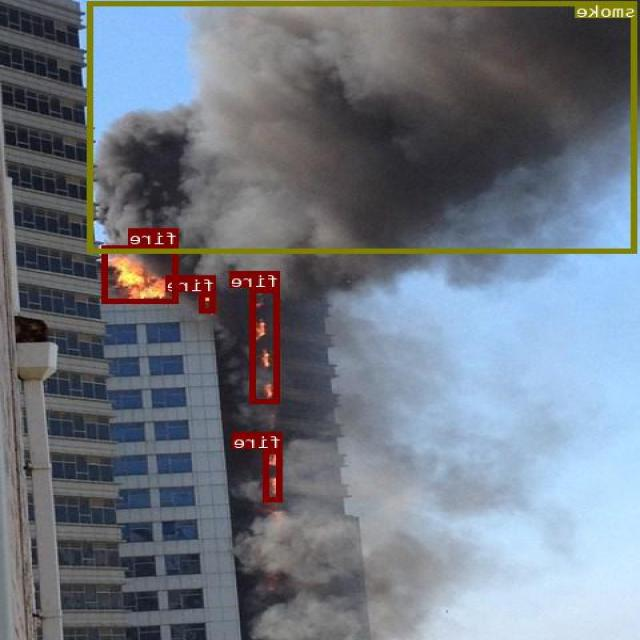fire: (103, 245, 180, 302), (252, 288, 280, 403), (264, 449, 284, 501), (200, 291, 217, 312)
smoke: (90, 1, 638, 252)
